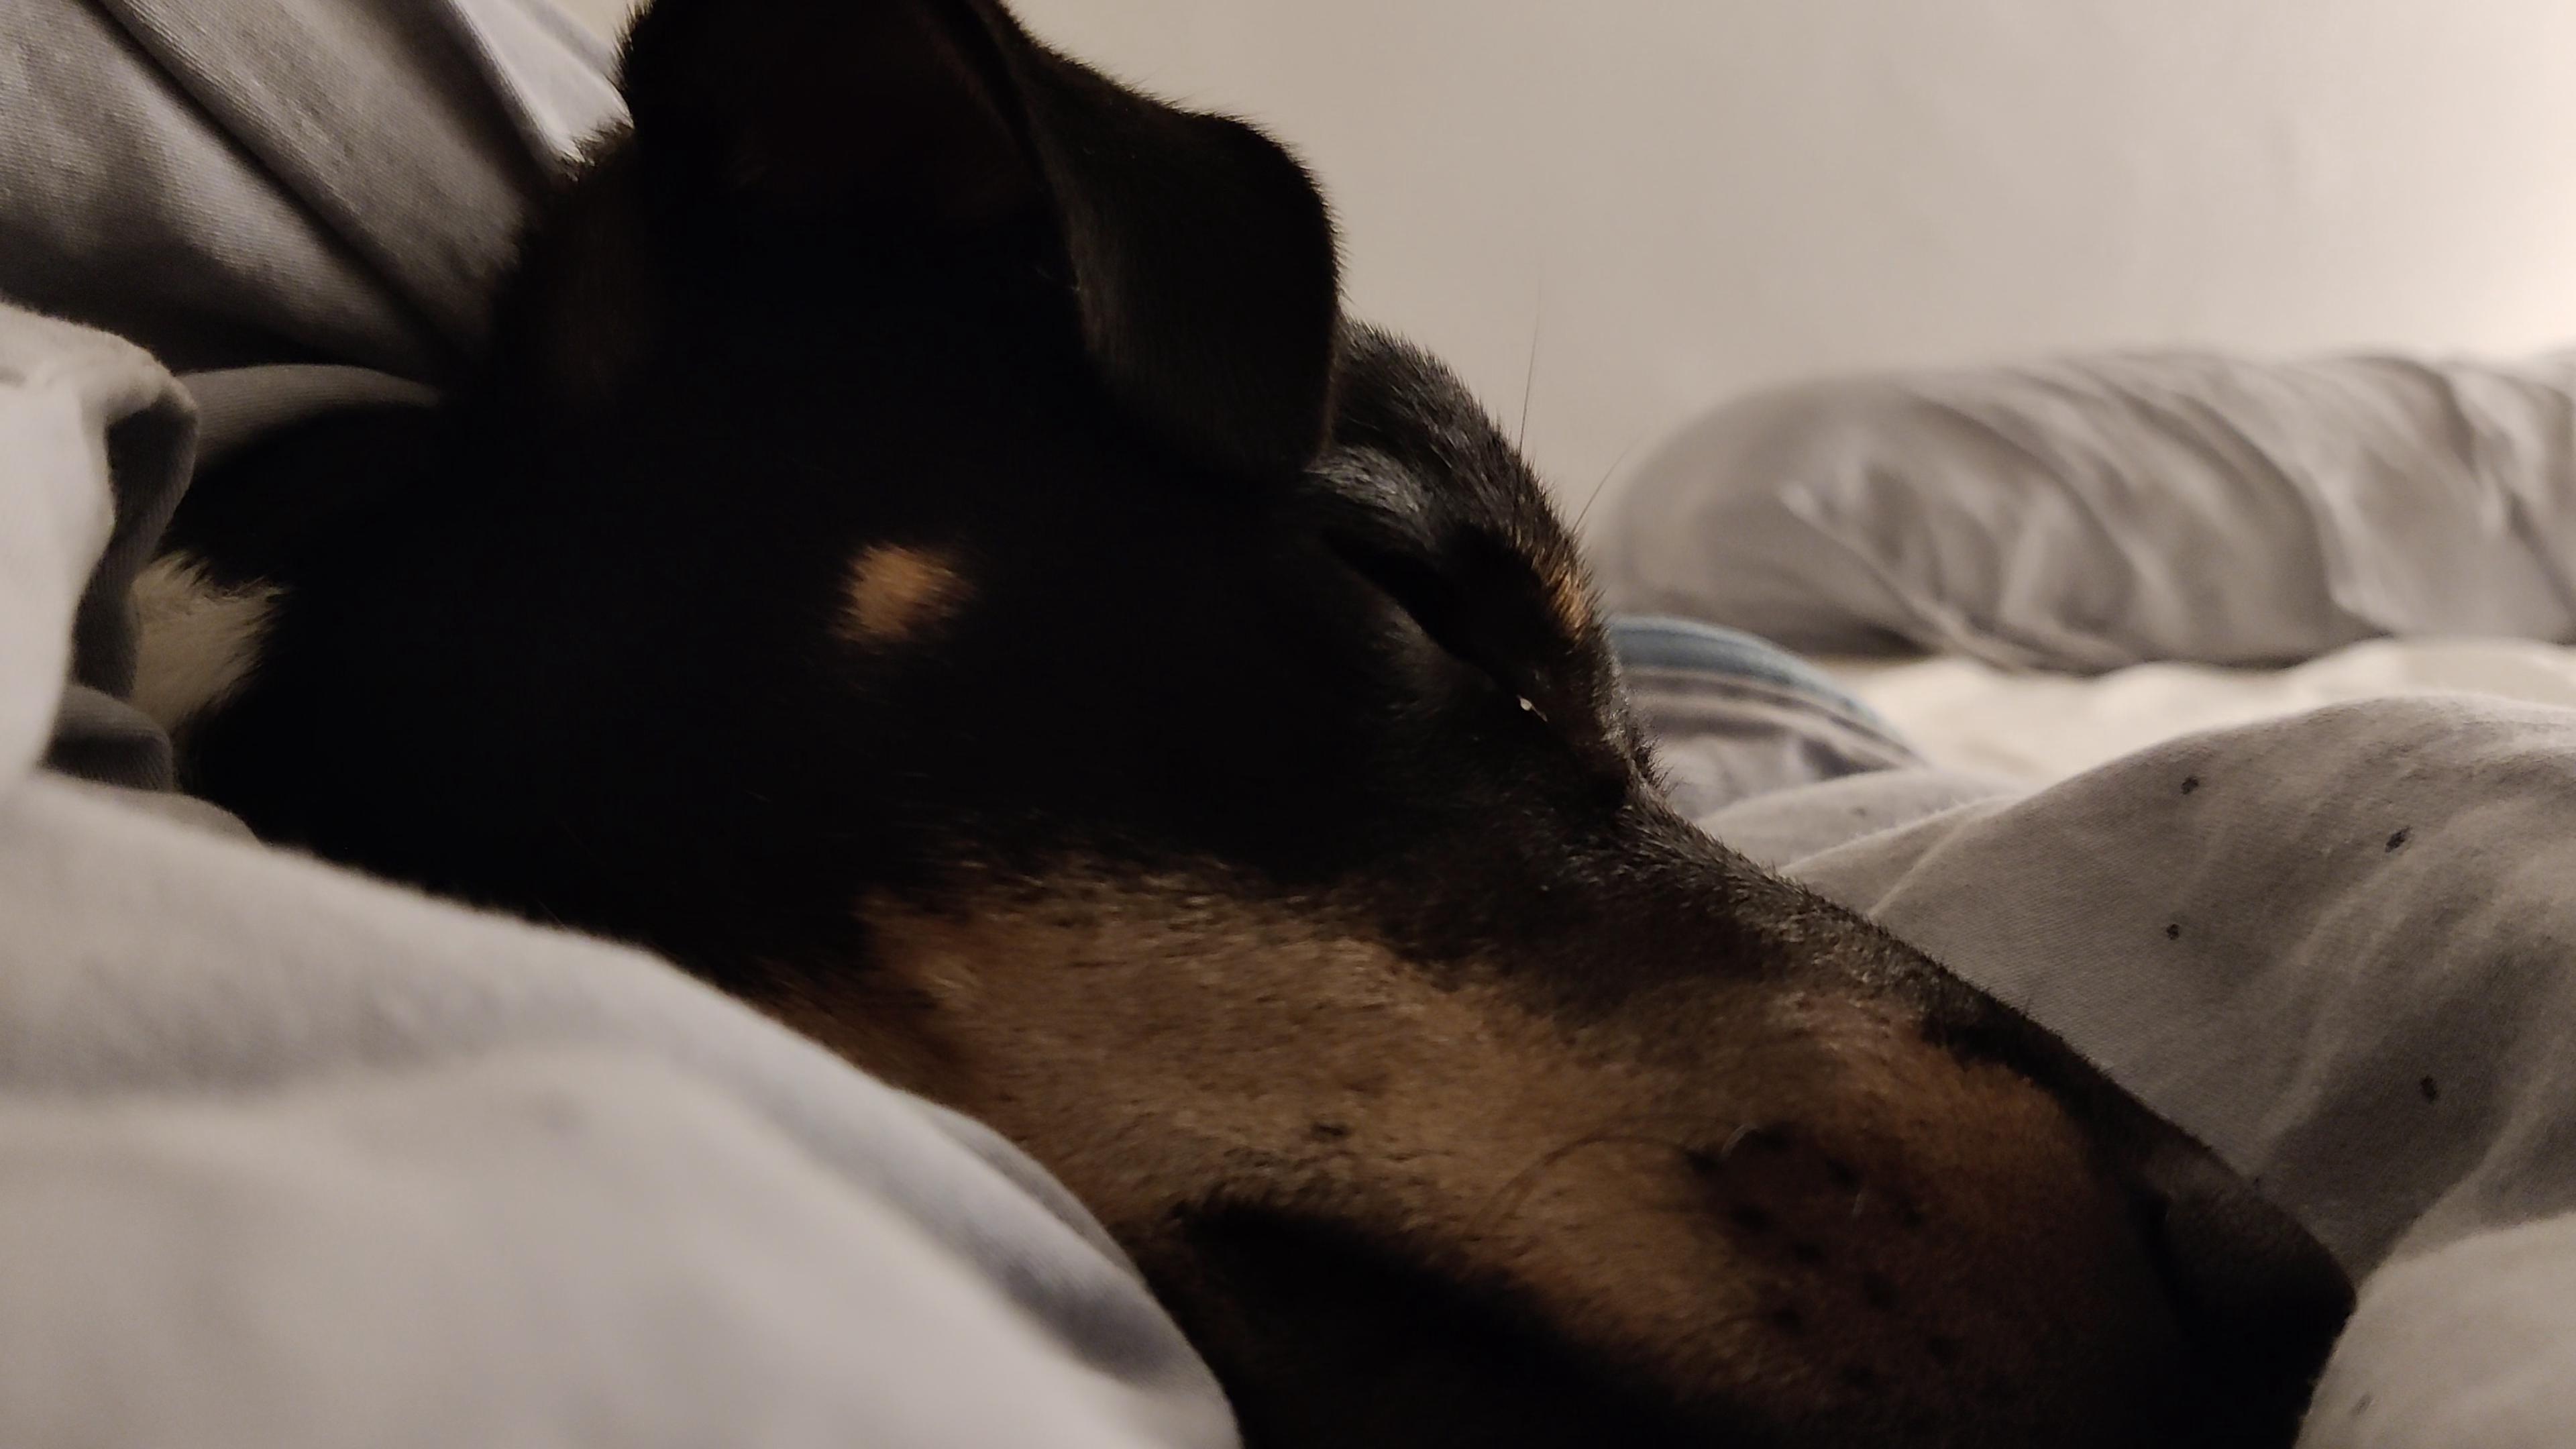Dog: (90, 0, 2394, 1449)
